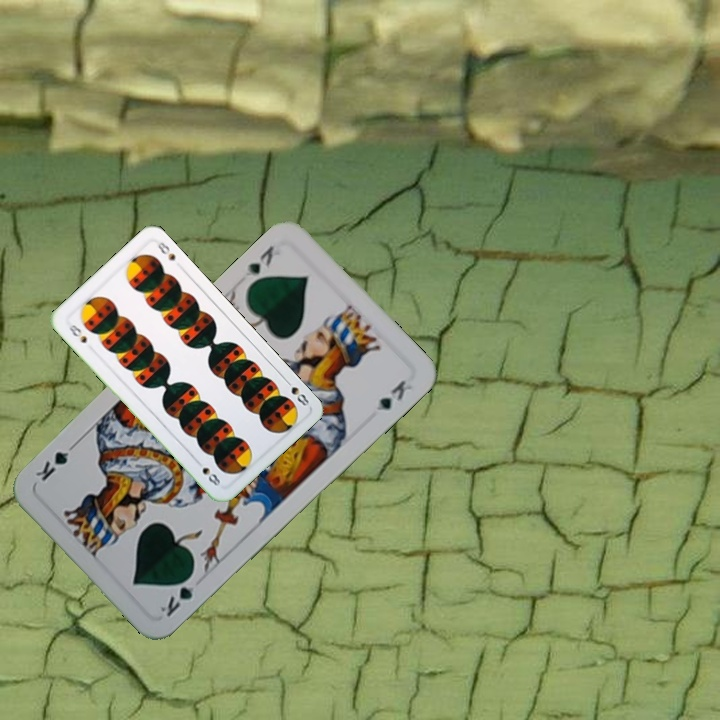GK: (155, 569, 197, 620), (241, 241, 277, 279)
S8: (280, 374, 312, 409), (65, 319, 89, 346)
